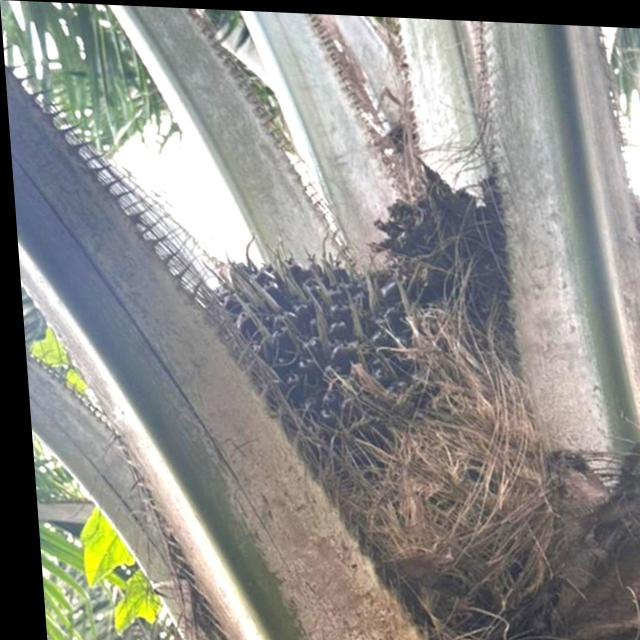almost: (178, 216, 510, 524)
